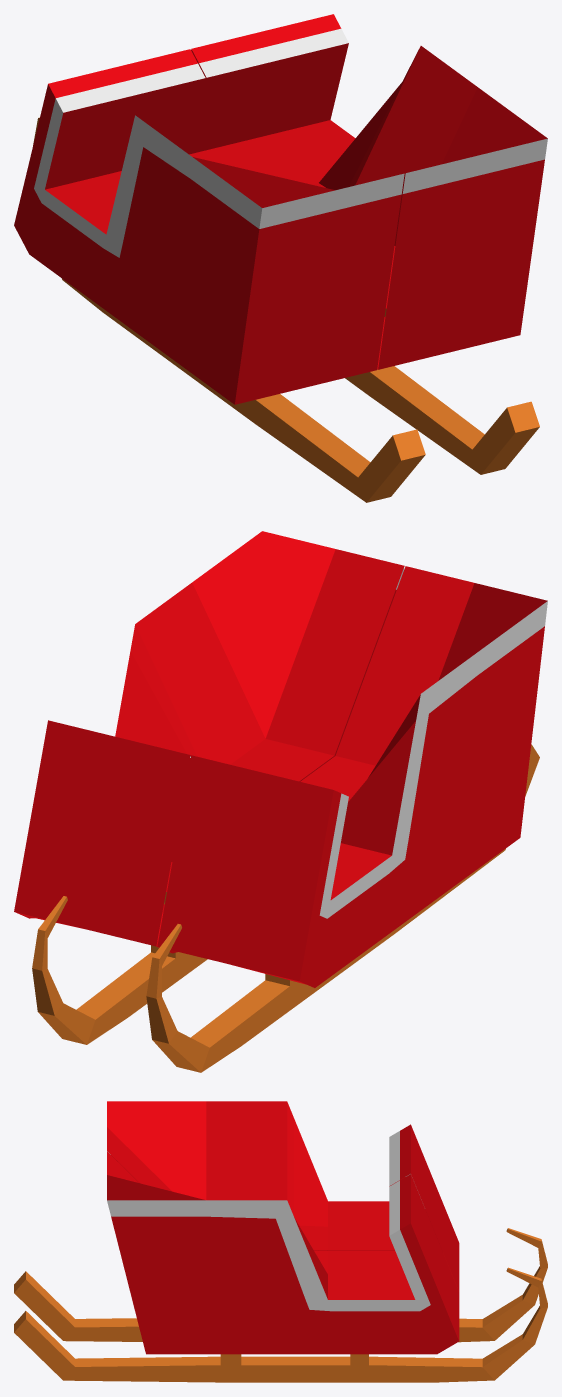
Rendered from sleigh.fbx.
3 renders of one model, top to bottom at view 1: azimuth 30°, elevation 25°; view 2: azimuth 150°, elevation 25°; view 3: azimuth 270°, elevation 25°, orthographic. The views are drawn at different scales.
Parts seen in each view (by area): view 1: Cube; view 2: Cube; view 3: Cube.
Boxes of the visible parts, x1=… form: Cube: x1=14, y1=14, x2=547, y2=502; Cube: x1=14, y1=531, x2=547, y2=1072; Cube: x1=14, y1=1101, x2=547, y2=1382.
Bounding box in the file's own units: 558 × 1274 × 547.
